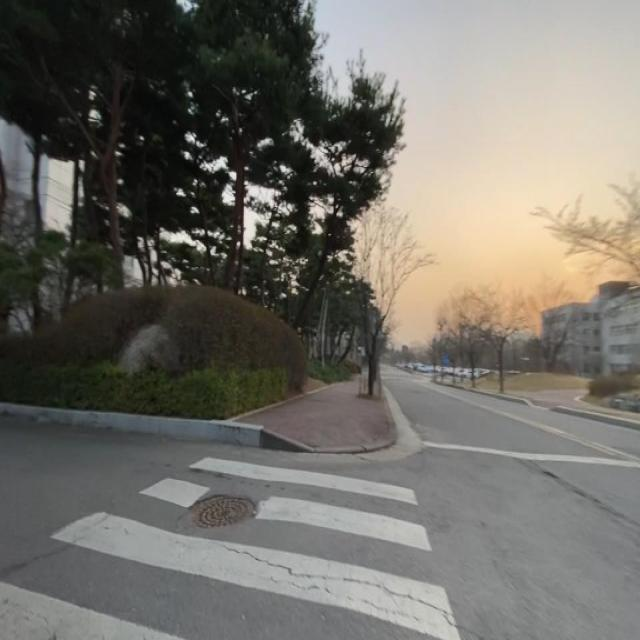sidewalk: (232, 382, 396, 453), (505, 389, 640, 423)
